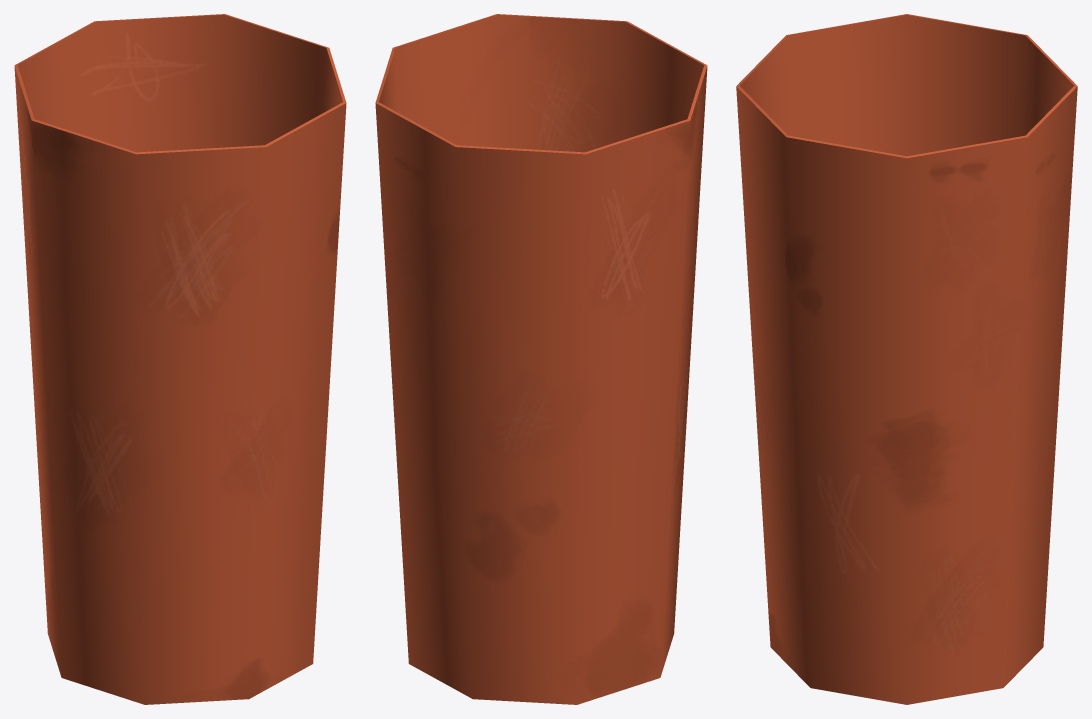
Rendered from vaso_grande_.fbx.
3 renders of one model, left to right at view 1: azimuth 30°, elevation 25°; view 2: azimuth 150°, elevation 25°; view 3: azimuth 270°, elevation 25°, orthographic.
Parts seen in each view (by area): view 1: vaso_grande_term; view 2: vaso_grande_term; view 3: vaso_grande_term.
Boxes of the visible parts, left/top/right/bottom form: vaso_grande_term: left=14, top=14, right=346, bottom=704; vaso_grande_term: left=375, top=14, right=707, bottom=704; vaso_grande_term: left=736, top=14, right=1077, bottom=704.
Bounding box in the file's own units: 8.32 × 15.15 × 8.32.
Materials: 1 (1 with a texture image).
